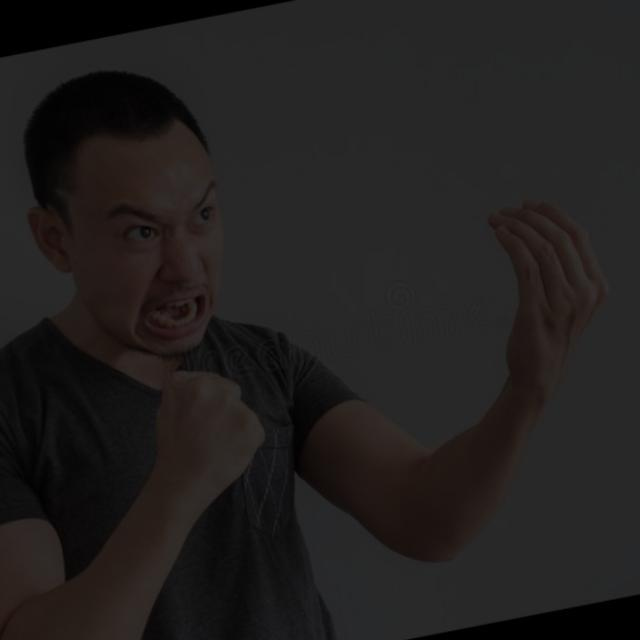Angry: (35, 72, 252, 409)
